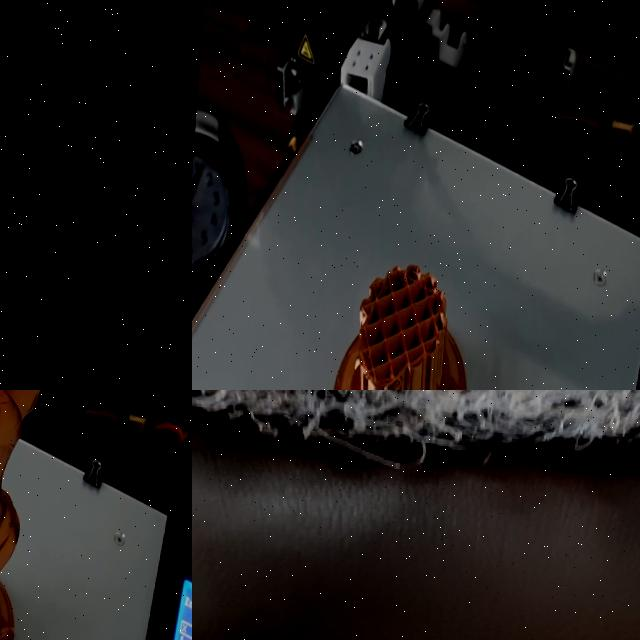spaghetti: (192, 390, 640, 465)
